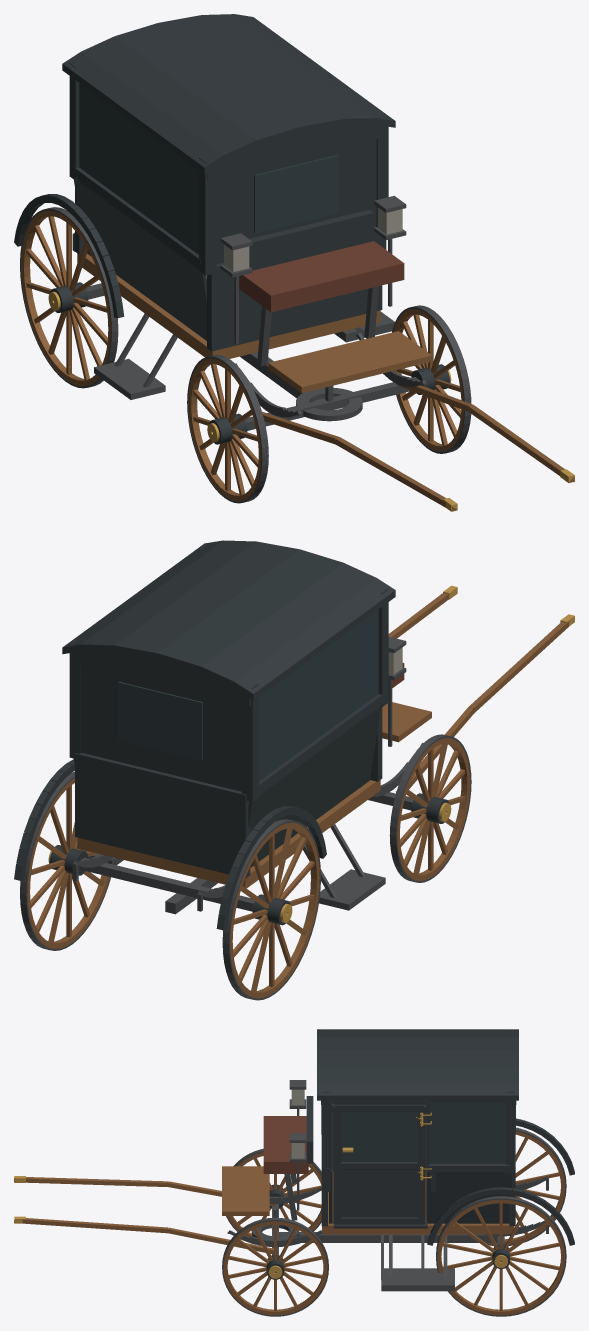
File: reparent-one-door-part.glb
3 renders of one model, top to bottom at view 1: azimuth 30°, elevation 25°; view 2: azimuth 150°, elevation 25°; view 3: azimuth 270°, elevation 25°, orthographic. The views are drawn at different scales.
Parts seen in each view (by area): view 1: surface_1_0, surface_1_6, surface_1_1, surface_1_2, surface_295_1, surface_1_4, surface_335_1, surface_315_1, surface_355_1, surface_132_4, surface_335_4, surface_0_4 (+3 smaller); view 2: surface_1_0, surface_1_6, surface_295_1, surface_335_1, surface_1_1, surface_275_1, surface_1_4, surface_355_1, surface_131_4, surface_335_4, surface_295_4, surface_0_4 (+1 smaller); view 3: surface_1_0, surface_2_0, surface_1_6, surface_275_1, surface_1_1, surface_2_6, surface_315_1, surface_1_4, surface_355_1, surface_0_4, surface_1_2, surface_295_1 (+6 smaller).
Part boxes in pixels (bbox=[...]): surface_1_0: bbox=[14, 14, 395, 351]; surface_1_6: bbox=[79, 83, 338, 254]; surface_1_1: bbox=[77, 253, 431, 392]; surface_1_2: bbox=[239, 241, 404, 312]; surface_295_1: bbox=[21, 210, 110, 386]; surface_1_4: bbox=[94, 195, 406, 399]; surface_335_1: bbox=[188, 358, 261, 501]; surface_315_1: bbox=[393, 309, 463, 451]; surface_355_1: bbox=[262, 384, 574, 511]; surface_132_4: bbox=[245, 377, 418, 430]; surface_335_4: bbox=[187, 355, 268, 503]; surface_0_4: bbox=[72, 232, 426, 417]; surface_1_0: bbox=[14, 540, 395, 930]; surface_1_6: bbox=[118, 609, 378, 781]; surface_295_1: bbox=[230, 822, 319, 998]; surface_335_1: bbox=[397, 738, 470, 880]; surface_1_1: bbox=[77, 702, 431, 888]; surface_275_1: bbox=[27, 778, 109, 948]; surface_1_4: bbox=[82, 637, 406, 910]; surface_355_1: bbox=[388, 593, 568, 792]; surface_131_4: bbox=[79, 857, 254, 911]; surface_335_4: bbox=[389, 734, 471, 882]; surface_295_4: bbox=[222, 819, 320, 1000]; surface_0_4: bbox=[72, 743, 422, 914]; surface_1_0: bbox=[306, 1029, 574, 1245]; surface_2_0: bbox=[333, 1104, 425, 1224]; surface_1_6: bbox=[321, 1101, 515, 1163]; surface_275_1: bbox=[437, 1199, 564, 1315]; surface_1_1: bbox=[222, 1166, 514, 1234]; surface_2_6: bbox=[341, 1111, 417, 1161]; surface_315_1: bbox=[223, 1221, 327, 1315]; surface_1_4: bbox=[284, 1080, 454, 1291]; surface_355_1: bbox=[14, 1177, 275, 1253]; surface_0_4: bbox=[227, 1176, 548, 1247]; surface_1_2: bbox=[263, 1116, 308, 1173]; surface_295_1: bbox=[486, 1131, 564, 1244].
Size of the model in its own units: 1.85 by 2.14 by 4.72.
